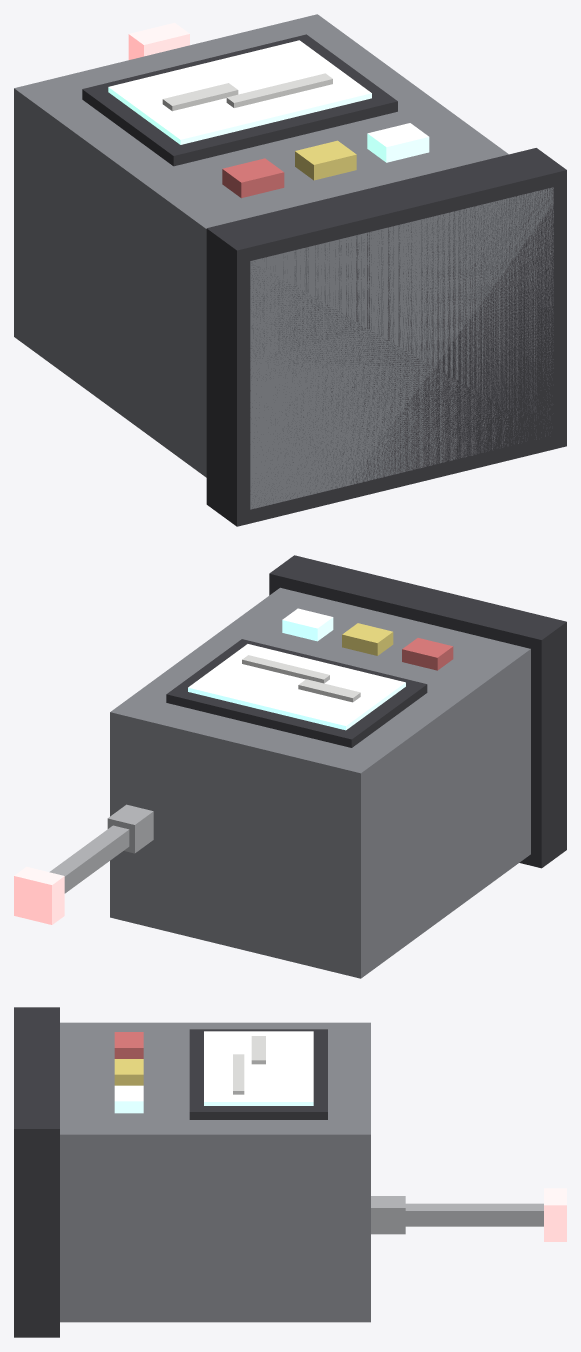
The model's file is guidance_computer.glb.
The picture shows the model from 3 angles, top to bottom: view 1: azimuth 30°, elevation 25°; view 2: azimuth 150°, elevation 25°; view 3: azimuth 270°, elevation 25°; orthographic projection. The views are drawn at different scales.
Visible parts, largest first — view 1: Body, BaseT, Screen, Bezel, BtnR, BtnG, BtnY, Tip, Scan2, Scan1; view 2: Body, BaseT, Screen, Bezel, Tip, Ant, AntB, BtnG, BtnR, BtnY, Scan2, Scan1; view 3: Body, BaseT, Screen, Bezel, Ant, AntB, Tip, BtnG, BtnR, BtnY, Scan2, Scan1.
Boxes of the visible parts, x1,y1,x2,y2 form: Body: [14, 14, 553, 509]; BaseT: [206, 148, 566, 526]; Screen: [108, 40, 371, 144]; Bezel: [82, 34, 397, 166]; BtnR: [222, 158, 284, 198]; BtnG: [367, 123, 429, 162]; BtnY: [295, 140, 356, 180]; Tip: [128, 22, 189, 59]; Scan2: [226, 73, 332, 107]; Scan1: [162, 83, 238, 111]; Body: [110, 587, 530, 978]; BaseT: [269, 555, 566, 868]; Screen: [188, 644, 405, 730]; Bezel: [166, 639, 427, 747]; Tip: [14, 866, 64, 924]; Ant: [49, 825, 129, 893]; AntB: [107, 804, 153, 853]; BtnG: [282, 608, 333, 641]; BtnR: [402, 638, 453, 670]; BtnY: [342, 623, 393, 655]; Scan2: [242, 655, 329, 683]; Scan1: [298, 679, 360, 702]; Body: [60, 1022, 370, 1322]; BaseT: [14, 1007, 59, 1337]; Screen: [204, 1031, 313, 1105]; Bezel: [189, 1029, 327, 1119]; Ant: [405, 1203, 543, 1226]; AntB: [371, 1196, 405, 1234]; Tip: [544, 1188, 566, 1241]; BtnG: [114, 1085, 143, 1113]; BtnR: [114, 1032, 143, 1058]; BtnY: [114, 1059, 143, 1085]; Scan2: [233, 1054, 244, 1094]; Scan1: [251, 1036, 265, 1064].
Size of the model in its own units: 1 by 0.82 by 1.92.
